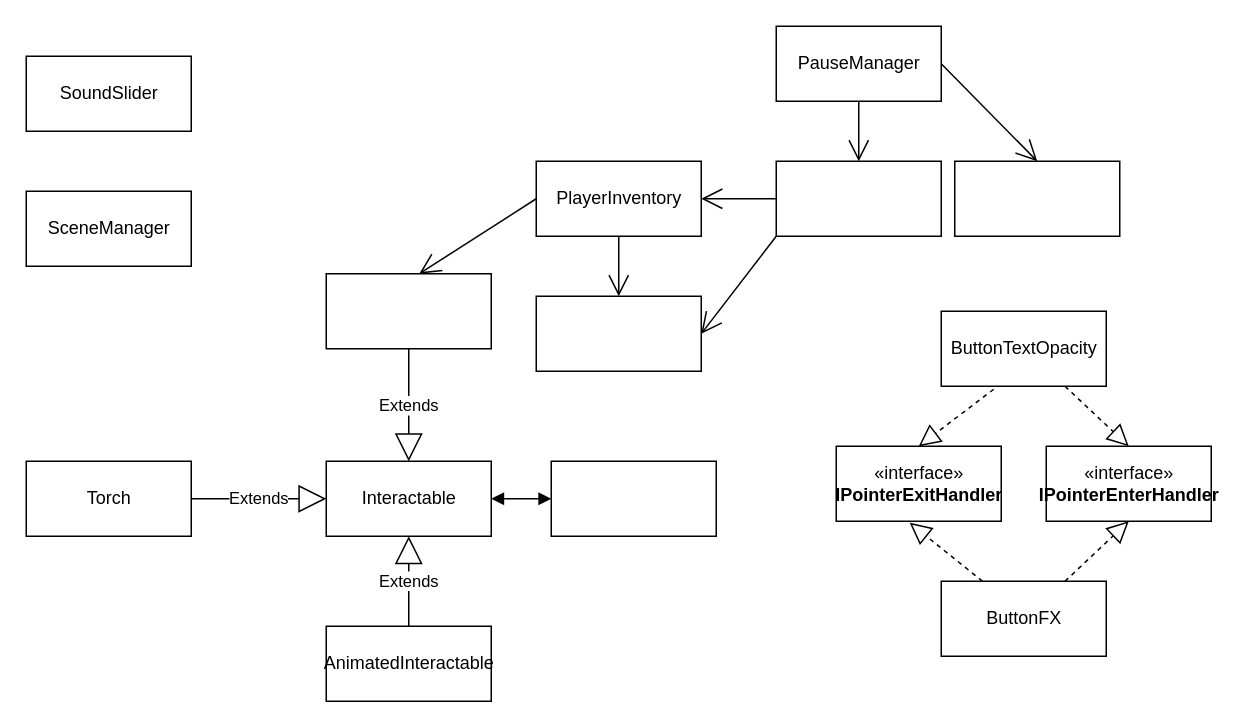
This 1245x728 diagram has some shape labels left out. The centre of each missing label's shape, as x and y in pixels:
"CanvasManager" belongs at [618,333].
"InteractionGroup" belongs at [633,498].
"InventoryPickup" belongs at [408,310].
"PlayerInteractions" belongs at [858,198].
"PlayerMovement" belongs at [1036,198].
